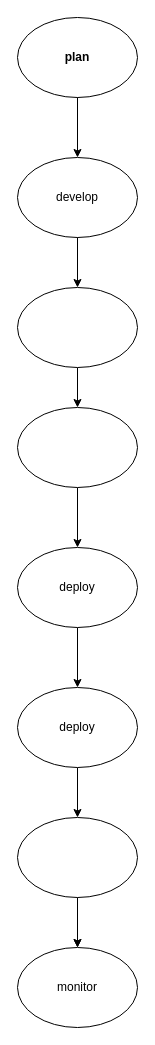
The diagram is 155 pixels wide and 1045 high, and some of its shapes have lost their labels. The centre of each missing label's shape, as x and y in pixels:
build: point (77, 327)
operate: point (77, 857)
test: point (77, 447)
